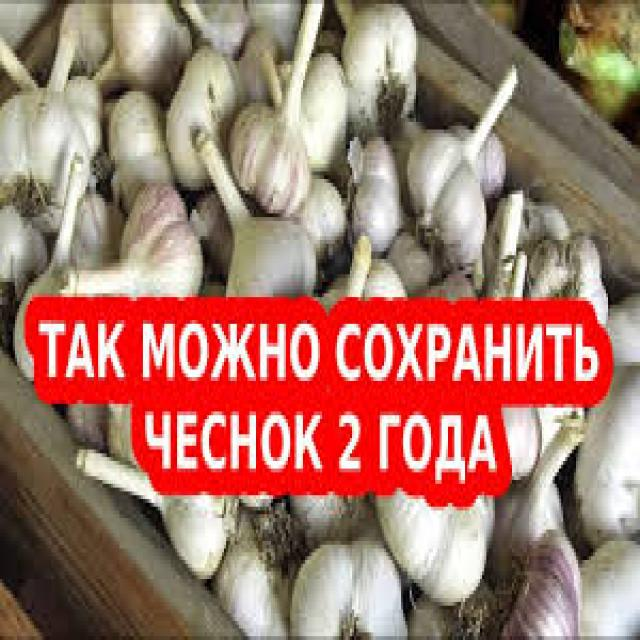Garlic: (0, 0, 592, 298), (104, 392, 640, 639), (639, 237, 640, 239)
